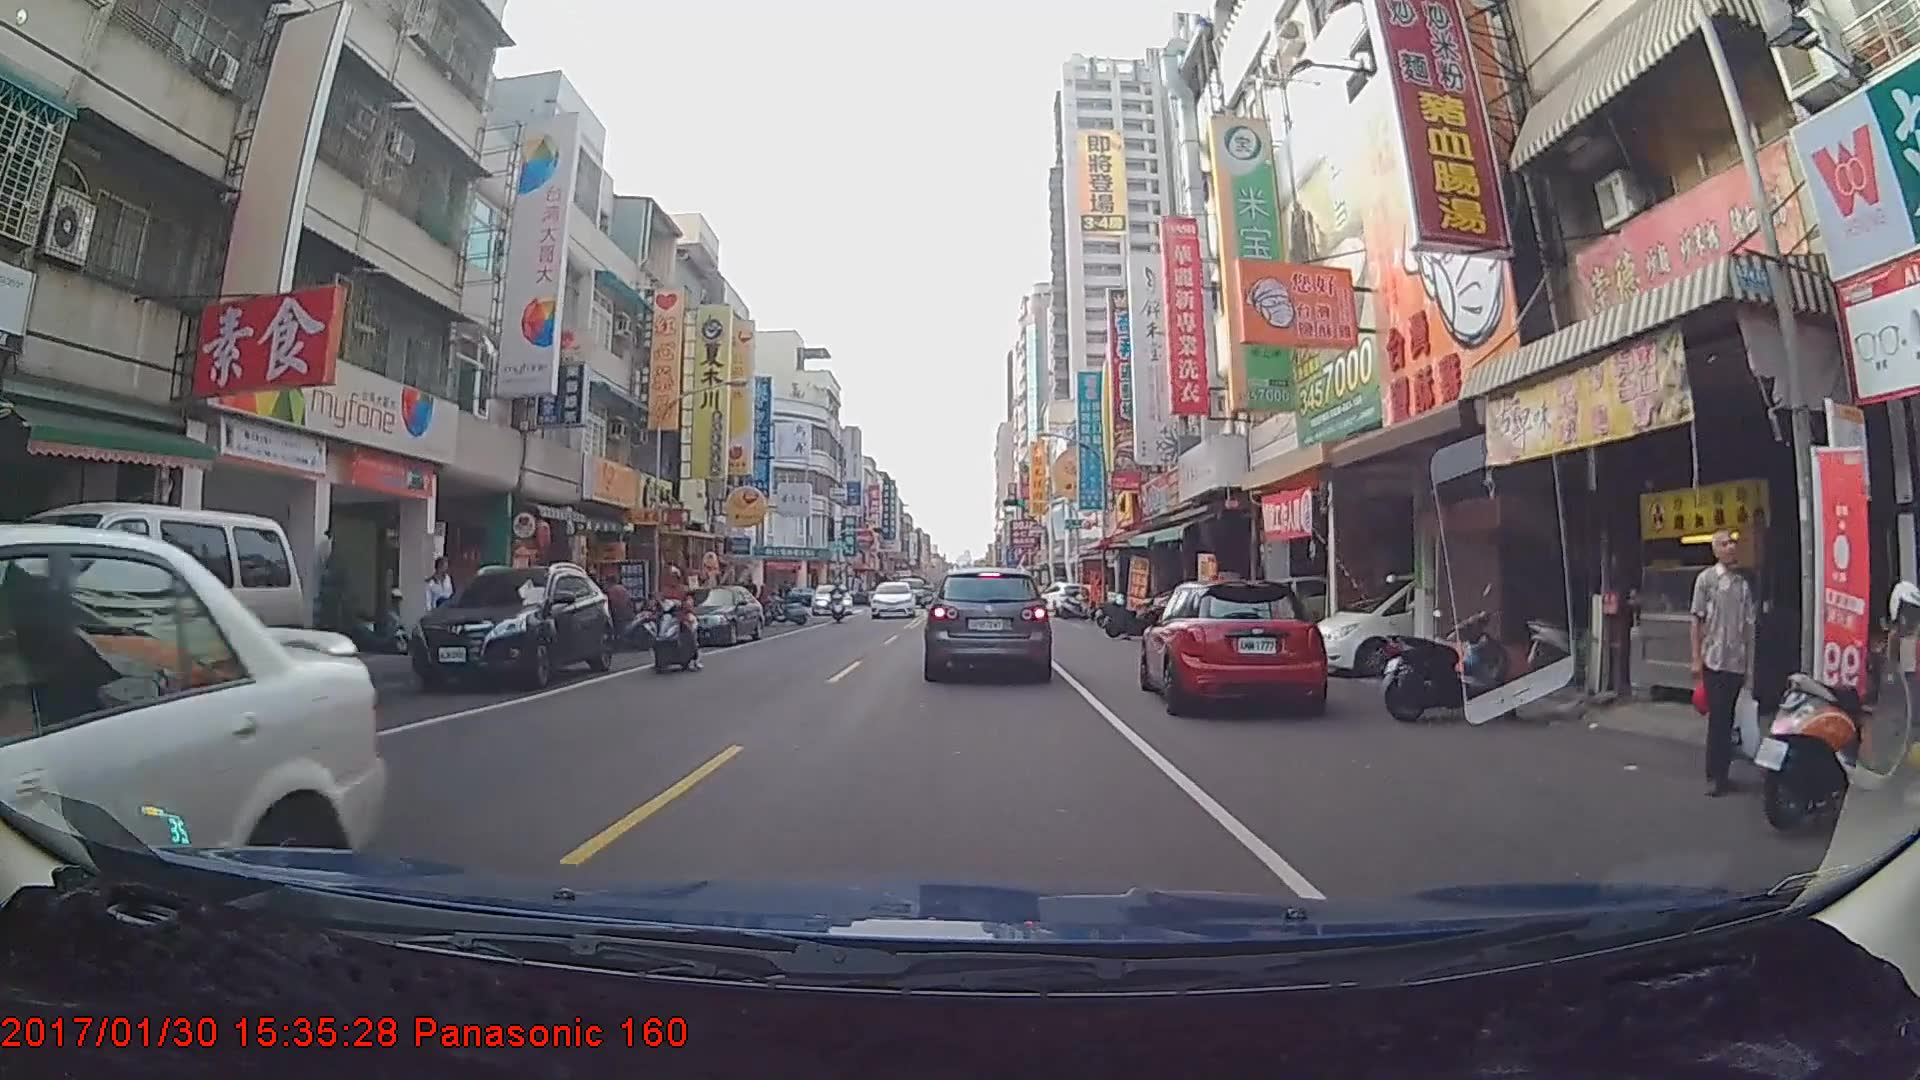pedestrian: (1691, 528, 1757, 803), (418, 558, 457, 673)
rider: (649, 570, 702, 677), (826, 578, 853, 627)
vehicle: (1, 530, 388, 1033), (411, 563, 613, 692), (1143, 575, 1329, 715), (923, 563, 1052, 679), (656, 585, 763, 648), (867, 579, 916, 619), (1035, 581, 1089, 617), (810, 586, 851, 617)
